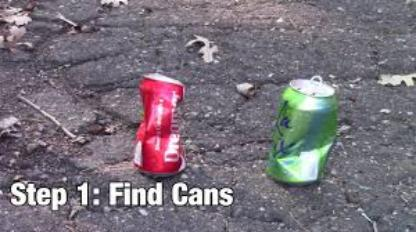Can: (266, 77, 338, 190), (132, 74, 188, 178)
